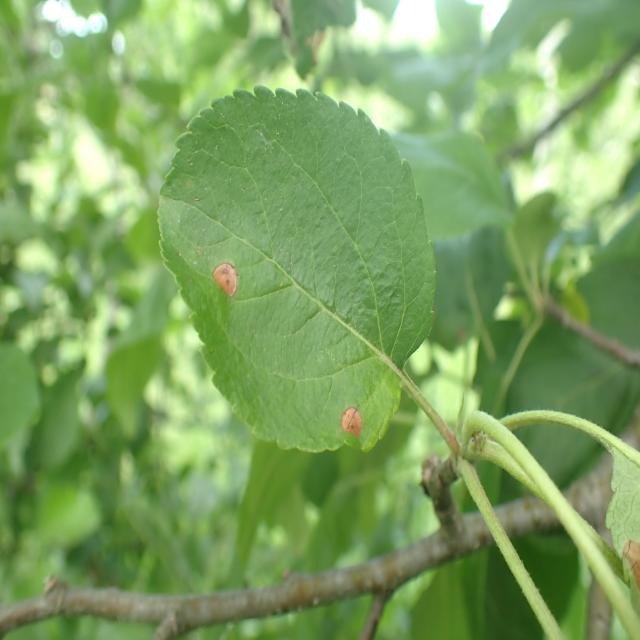Black Rot: (327, 380, 381, 458), (208, 238, 245, 318)
